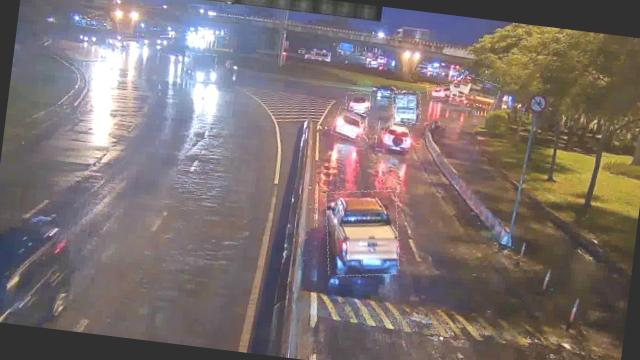Bus: (456, 74, 499, 108)
Car: (319, 184, 405, 281), (332, 106, 366, 142), (376, 120, 412, 153), (344, 90, 372, 114), (426, 82, 453, 102)
Truck: (389, 89, 422, 125), (182, 51, 218, 82)
